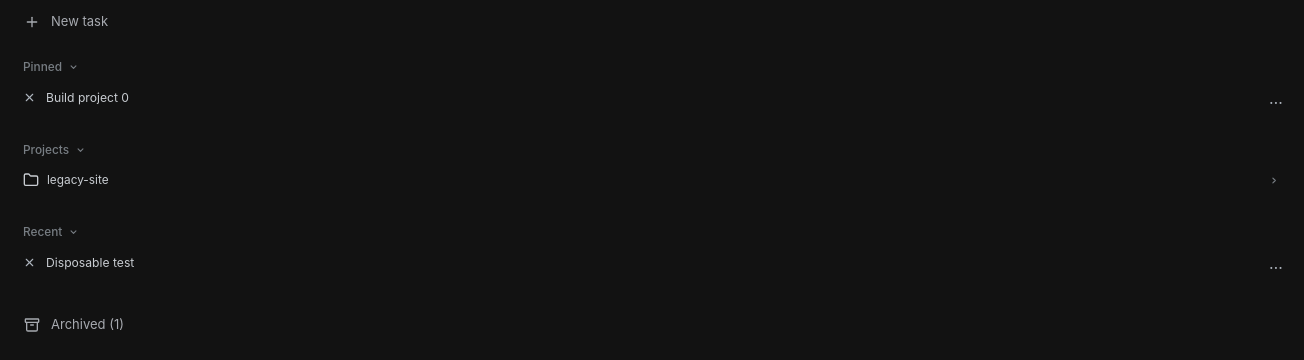
Test: keeps pinned and archived projects out of Recent and preserves legacy folder names
The image size is (1304, 360).
Expected: the text "legacy-site" is shown, [47, 170, 109, 190]
Expected: the text "Playground" is not shown
What coordinates should you click on to do the following:
click the button "Archived (1)"
I would click on:
 (87, 324)
Its box is [12, 306, 1292, 344].
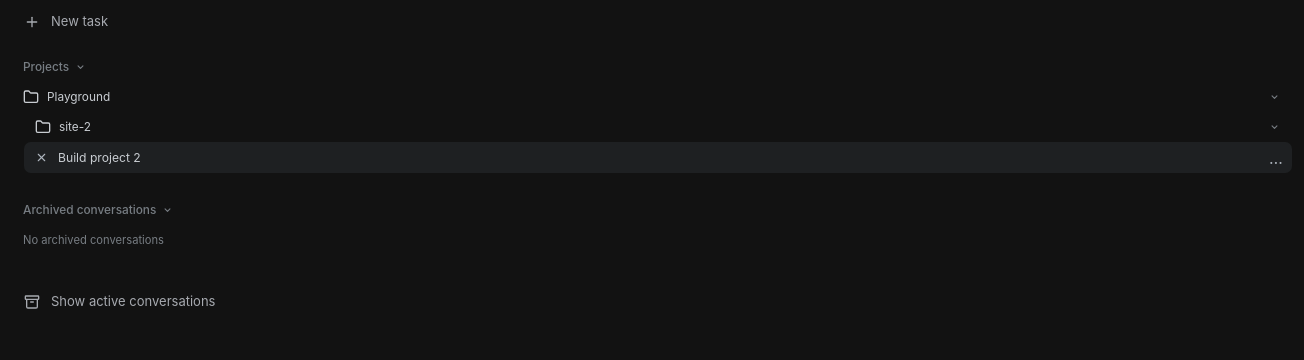
Expected: the text "Playground" is shown, [47, 87, 110, 107]
Expected: the button "Build project 2" is shown, [24, 142, 1292, 173]
What coordinates should you click on to do the following:
click the button "Show active conversations"
I would click on:
 (133, 301)
Its box is [12, 283, 1292, 321].
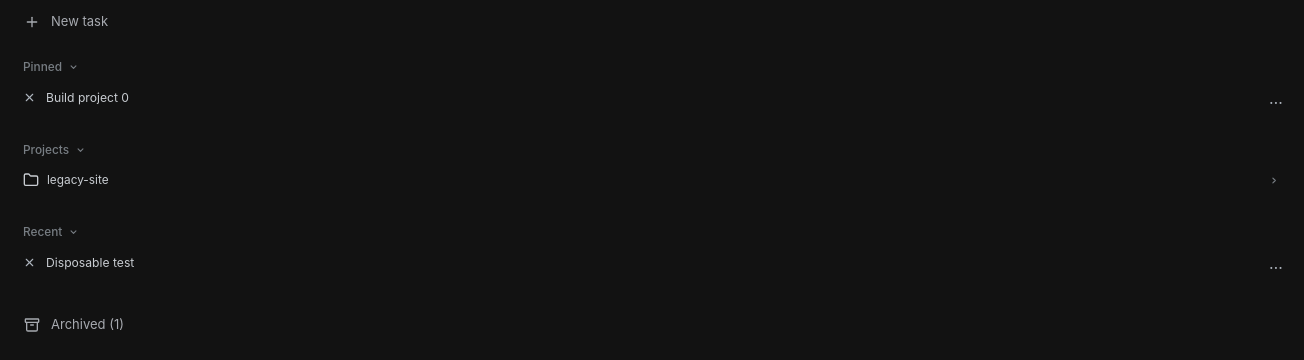
Expected: the text "legacy-site" is shown, [47, 170, 109, 190]
